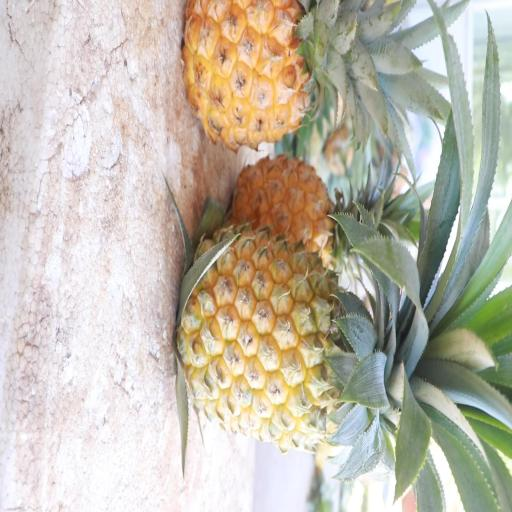Pineapple - v8 v1: (173, 220, 427, 457), (181, 0, 375, 162), (230, 152, 380, 286), (244, 98, 244, 99)
